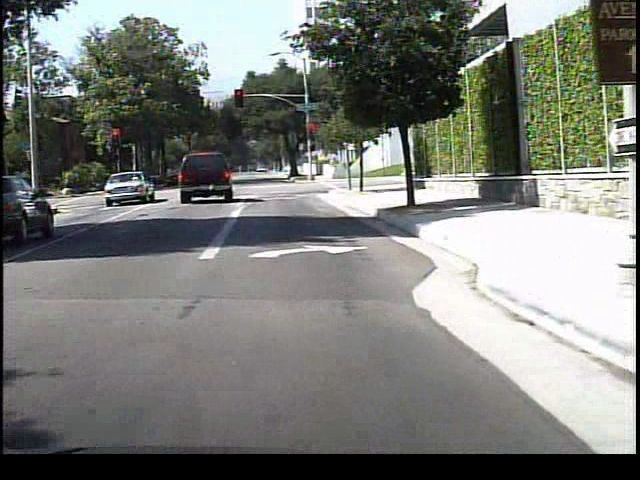person: (328, 151, 343, 180)
